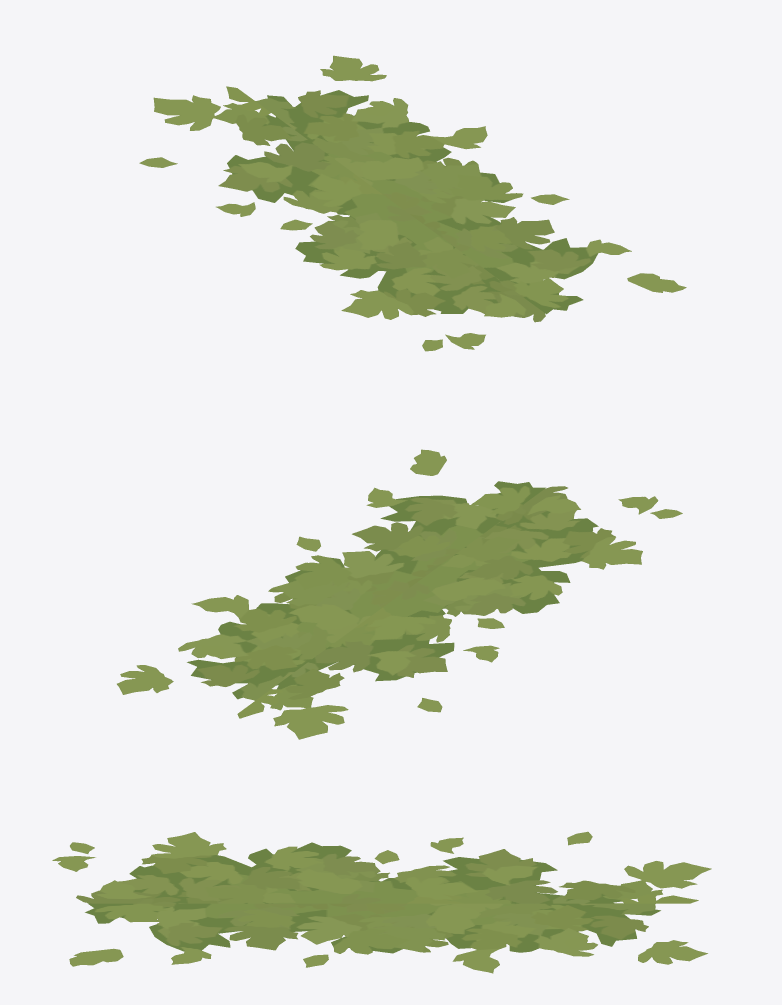
File: SM_Env_Vine_09.fbx
3 views of the same model, one above another, from view 1: azimuth 30°, elevation 25°; view 2: azimuth 150°, elevation 25°; view 3: azimuth 270°, elevation 25° (orthographic). The views are drawn at different scales.
Parts seen in each view (by area): view 1: SM_Env_Vine_09; view 2: SM_Env_Vine_09; view 3: SM_Env_Vine_09.
Part boxes in pixels (x1,y1,x2,y2): SM_Env_Vine_09: (139,55,686,351); SM_Env_Vine_09: (117,449,682,739); SM_Env_Vine_09: (52,831,711,973).
Bounding box in the file's own units: 167 × 0 × 305.
